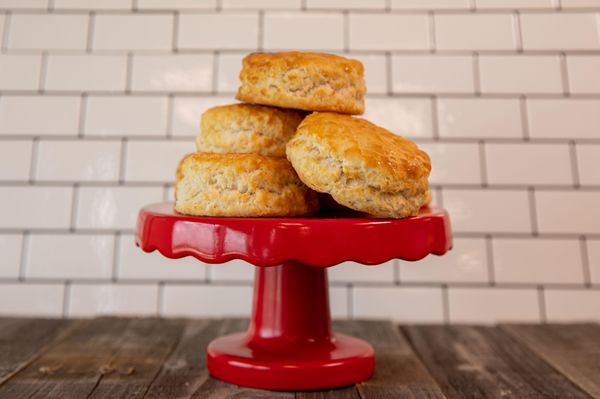pasta: (134, 51, 453, 392)
